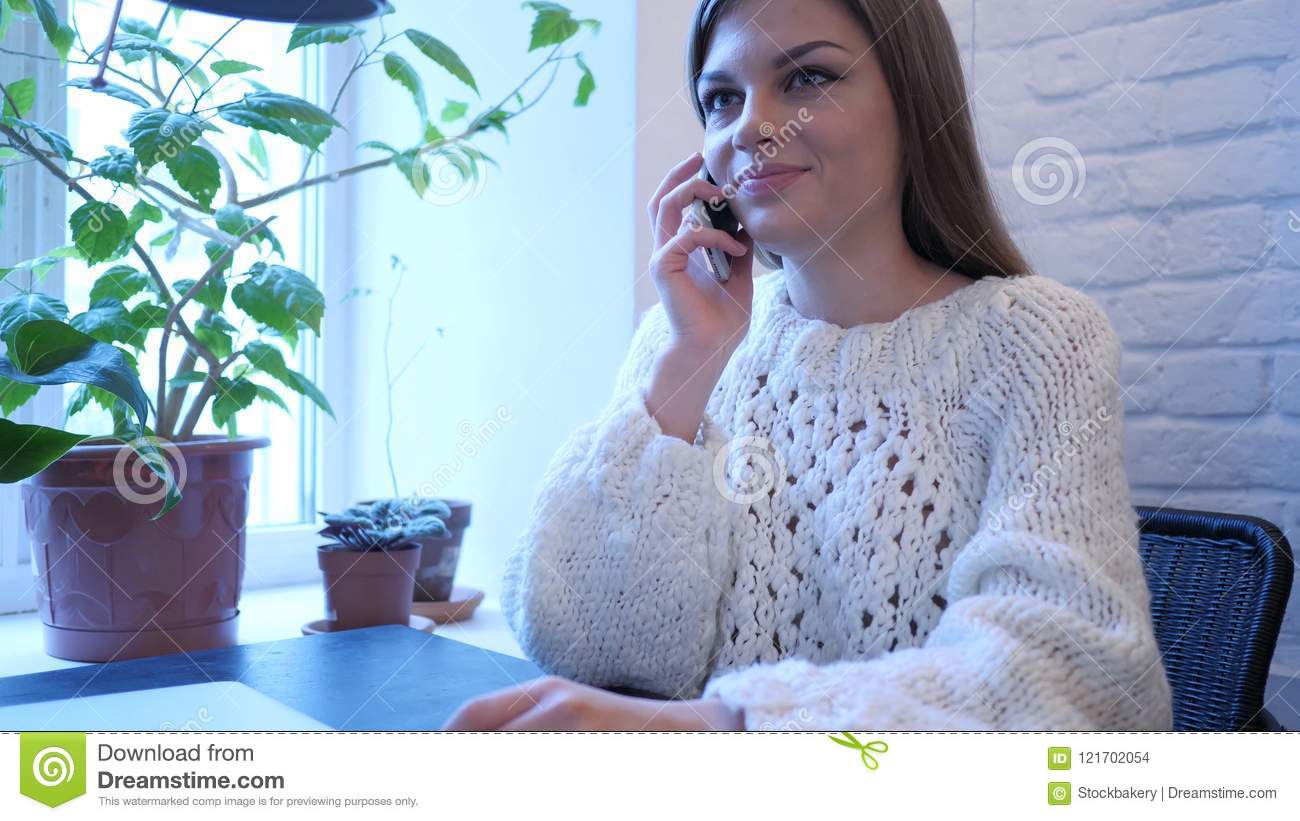phone: (686, 135, 743, 287)
talk: (647, 31, 868, 369)
